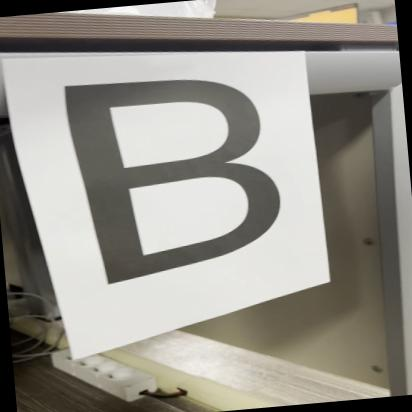seat: (40, 56, 302, 297)
